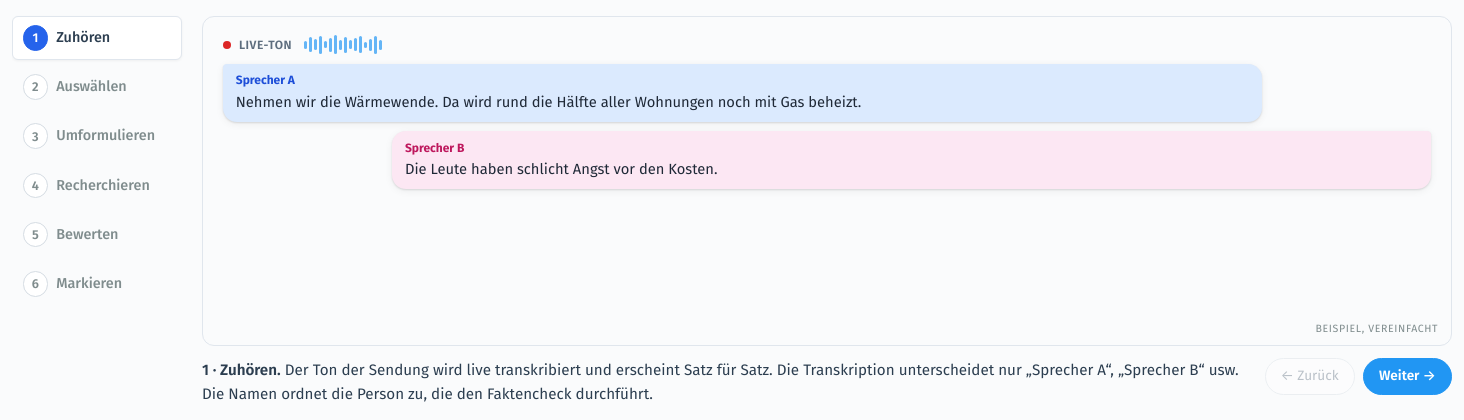
Test: PipelineAnimation › jumps to a step on click and shows its scene
What coordinates should you click on to do the following:
click the button "3 Umformulieren"
I would click on:
 (97, 136)
Its box is [12,114,182,158].
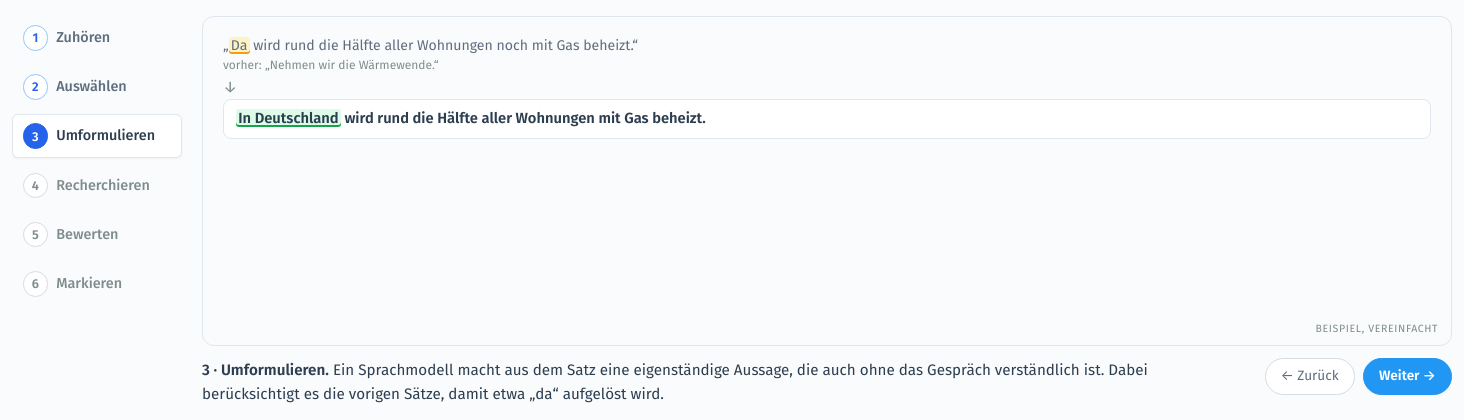
Expected: the text "In Deutschland" is shown, [236,109,341,127]
